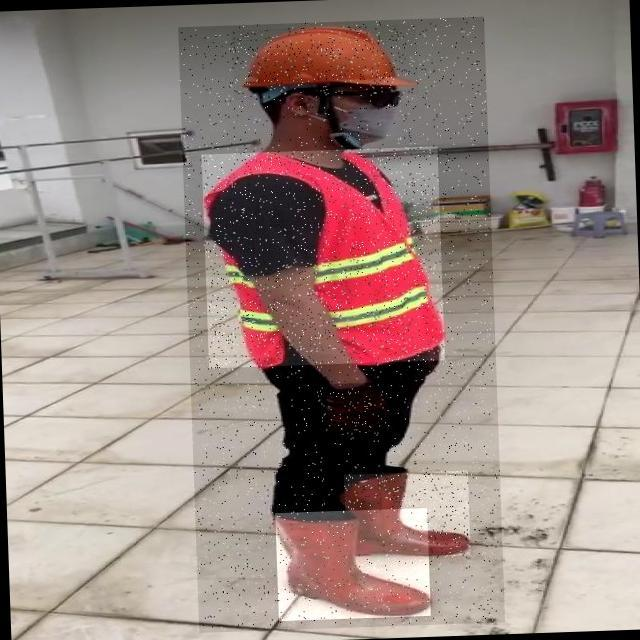Gloves: (317, 382, 385, 435)
Helmet: (231, 24, 418, 100)
Human: (178, 17, 505, 633)
Safety Boot: (275, 508, 431, 621), (344, 470, 471, 559)
Safety Vest: (202, 146, 445, 368)
